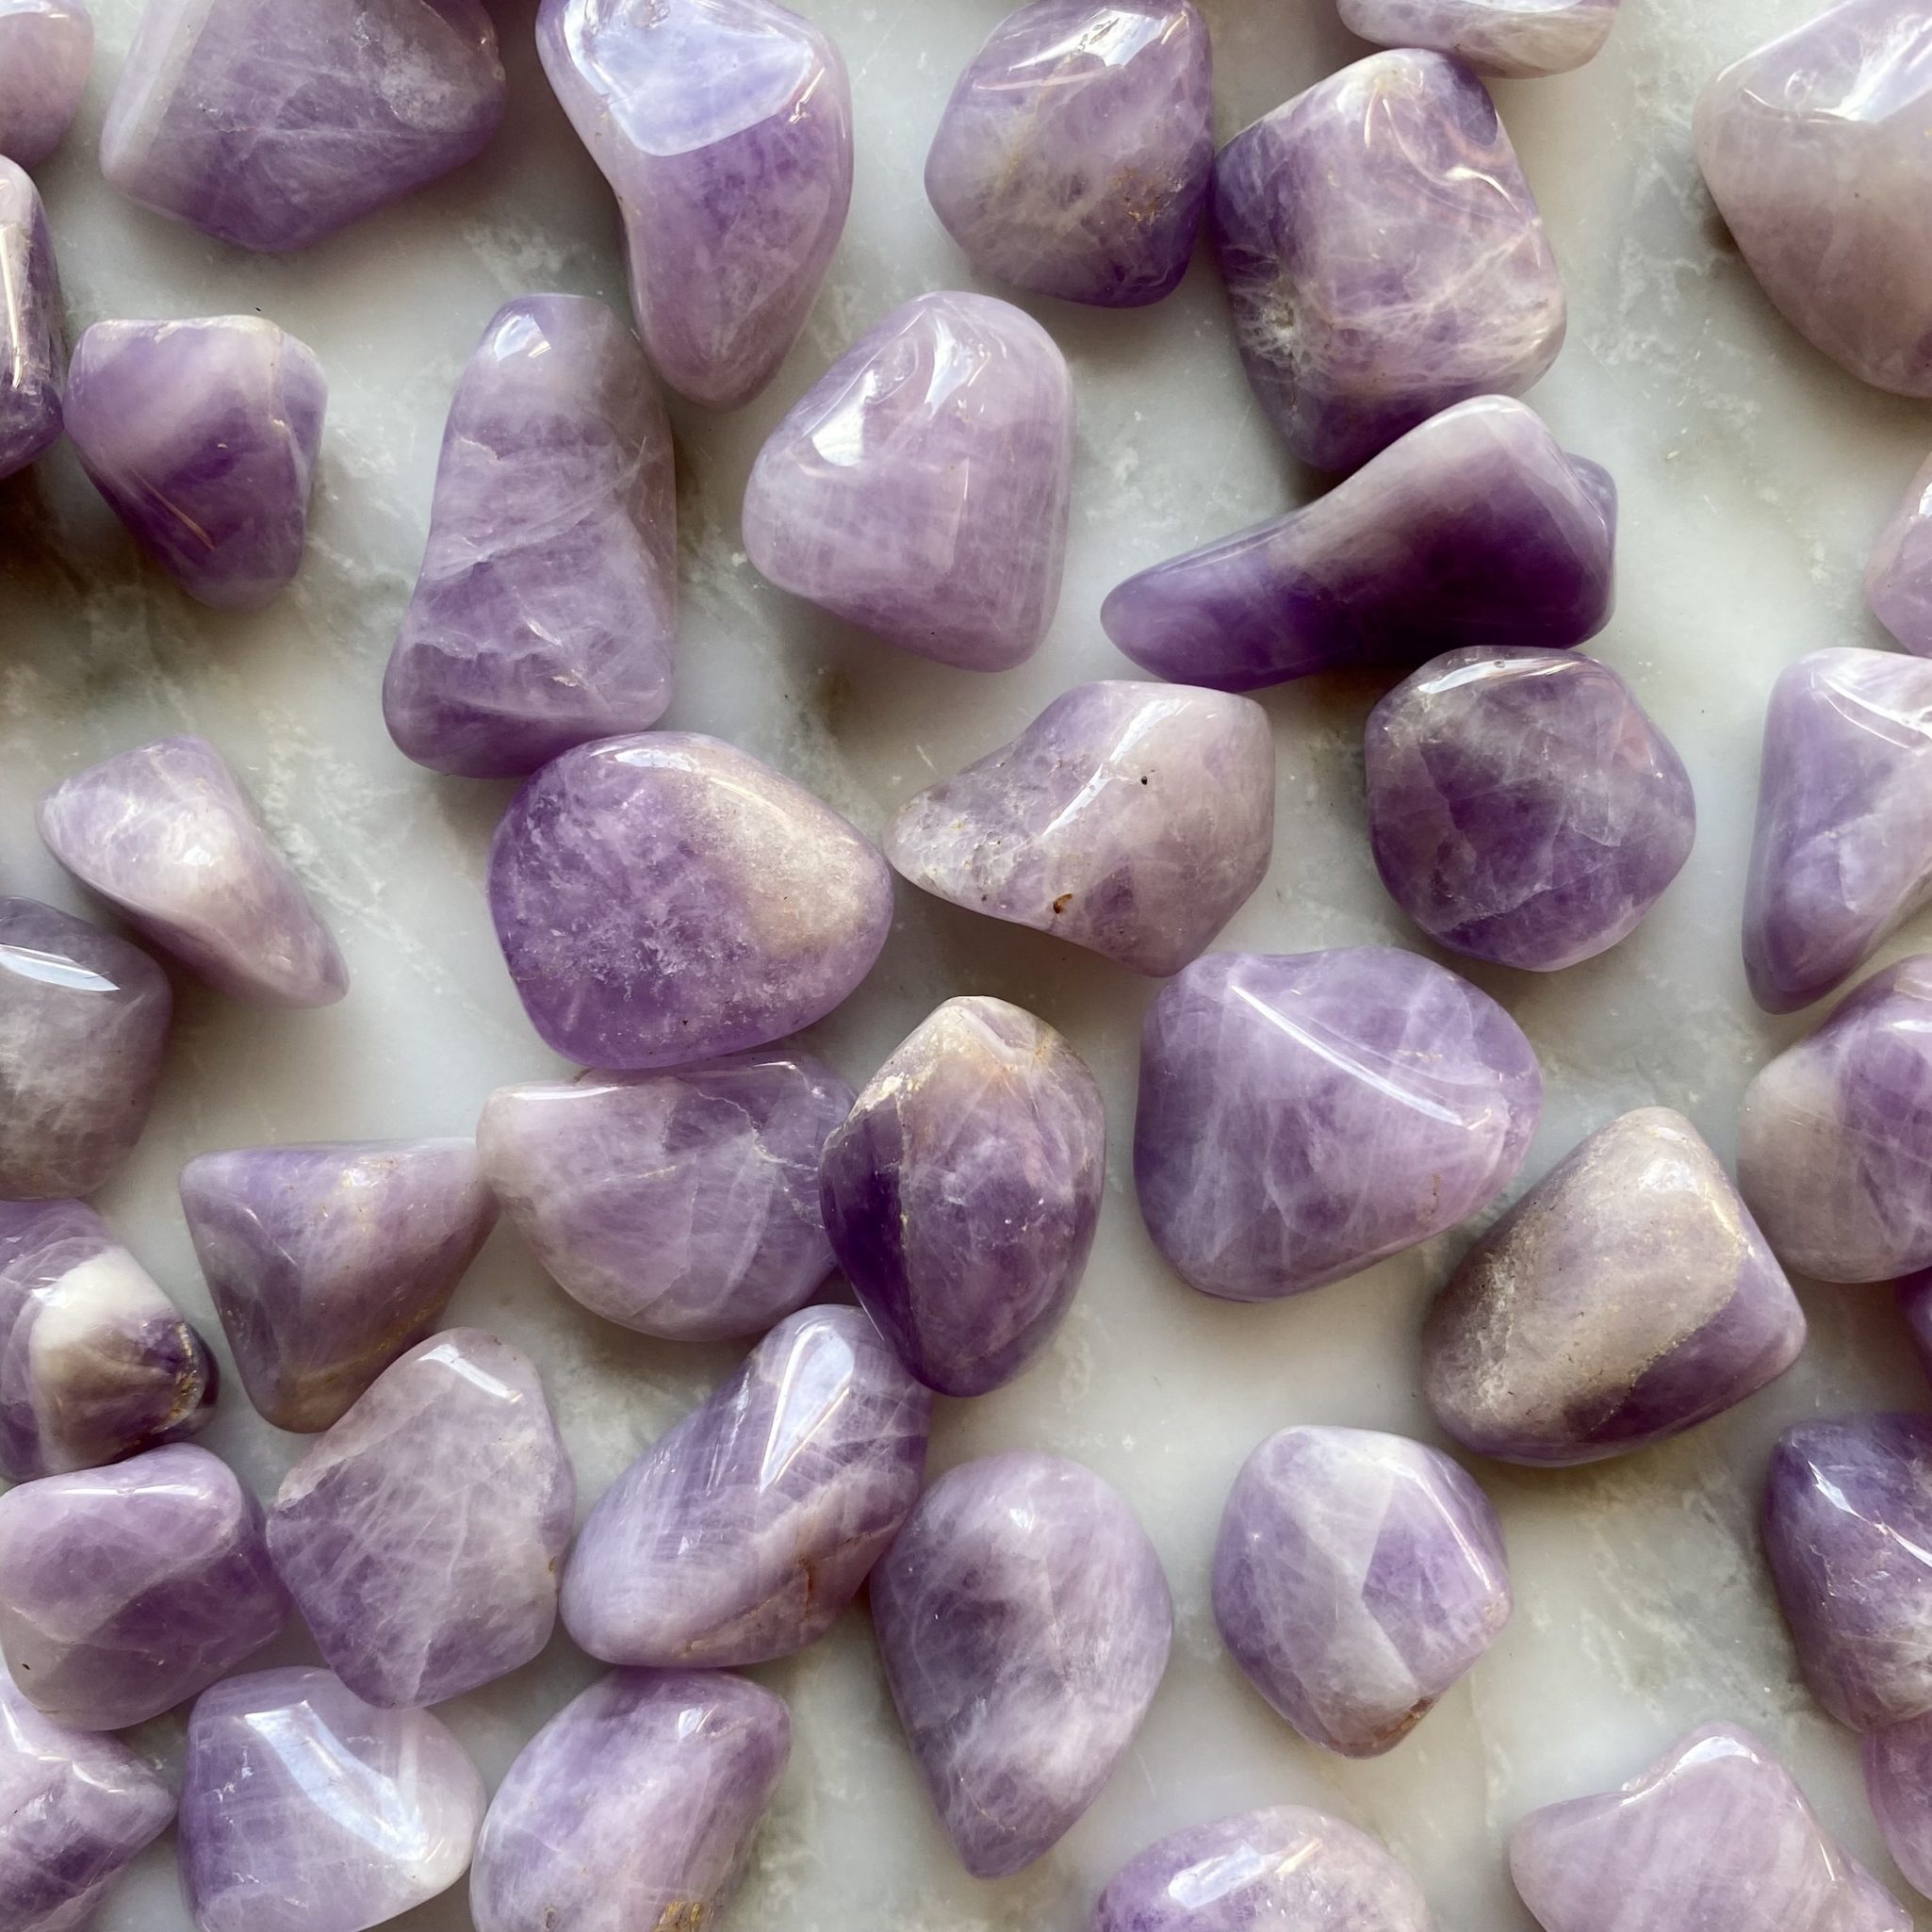Amethyst: (1228, 46, 1576, 488), (1134, 950, 1559, 1302), (1415, 1111, 1817, 1477), (1109, 402, 1619, 690), (481, 731, 893, 1083), (389, 295, 686, 771), (533, 0, 862, 425), (869, 1456, 1180, 1882), (803, 985, 1122, 1401), (561, 1327, 934, 1681), (255, 1325, 571, 1713), (738, 290, 1070, 656), (1327, 669, 1711, 970), (888, 676, 1276, 968), (1700, 0, 1932, 453), (1212, 1415, 1518, 1757), (97, 0, 506, 251), (175, 1132, 499, 1440), (30, 738, 368, 1014), (929, 2, 1223, 308), (1507, 1732, 1932, 1932), (163, 1677, 492, 1932), (7, 1445, 276, 1750), (471, 1672, 782, 1932), (62, 308, 333, 607), (1744, 639, 1932, 1003), (1842, 1845, 1932, 1874)
